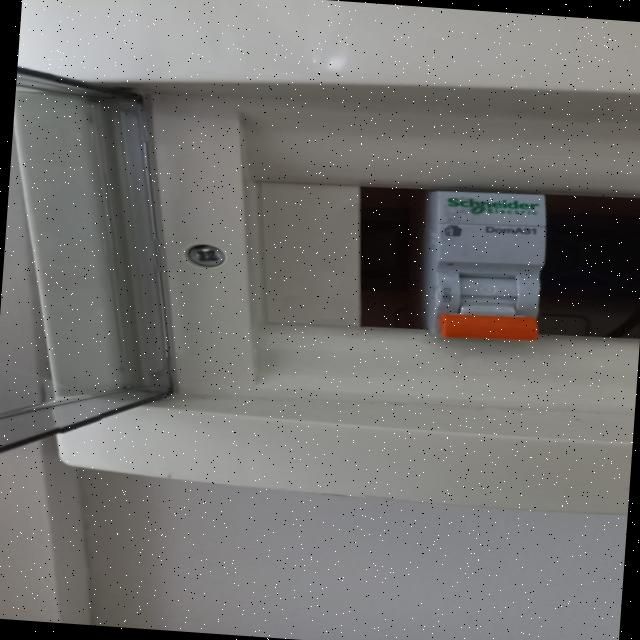Phillips: (182, 242, 228, 273)
